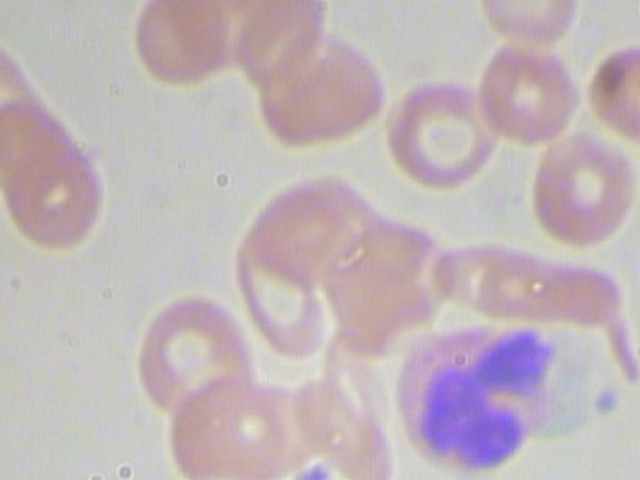Platelets: (587, 383, 623, 418), (290, 456, 332, 480)
RBC: (127, 293, 261, 417), (256, 30, 390, 154), (0, 132, 130, 255), (218, 240, 341, 362), (380, 76, 500, 192), (471, 35, 591, 151), (244, 174, 377, 278), (523, 132, 640, 250), (335, 209, 459, 318), (474, 244, 623, 324), (191, 370, 297, 480), (122, 0, 237, 94), (589, 33, 640, 143)
WBC: (391, 315, 565, 479)
